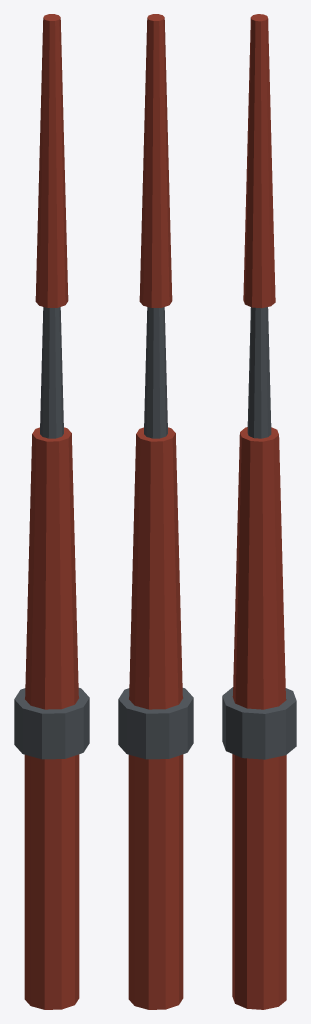
Rendered from Dropship_05_Antenna_Red.fbx.
The picture shows the model from 3 angles, left to right: view 1: azimuth 30°, elevation 25°; view 2: azimuth 210°, elevation 25°; view 3: azimuth 270°, elevation 25°; orthographic projection.
Visible parts, largest first — view 1: Dropship_05_Antenna_Red; view 2: Dropship_05_Antenna_Red; view 3: Dropship_05_Antenna_Red.
Part boxes in pixels (x1=…): Dropship_05_Antenna_Red: x1=14, y1=14, x2=89, y2=1009; Dropship_05_Antenna_Red: x1=118, y1=14, x2=193, y2=1009; Dropship_05_Antenna_Red: x1=222, y1=14, x2=296, y2=1009.
Bounding box in the file's own units: 18.18 × 264 × 18.17.
1 material, 1 textured.
